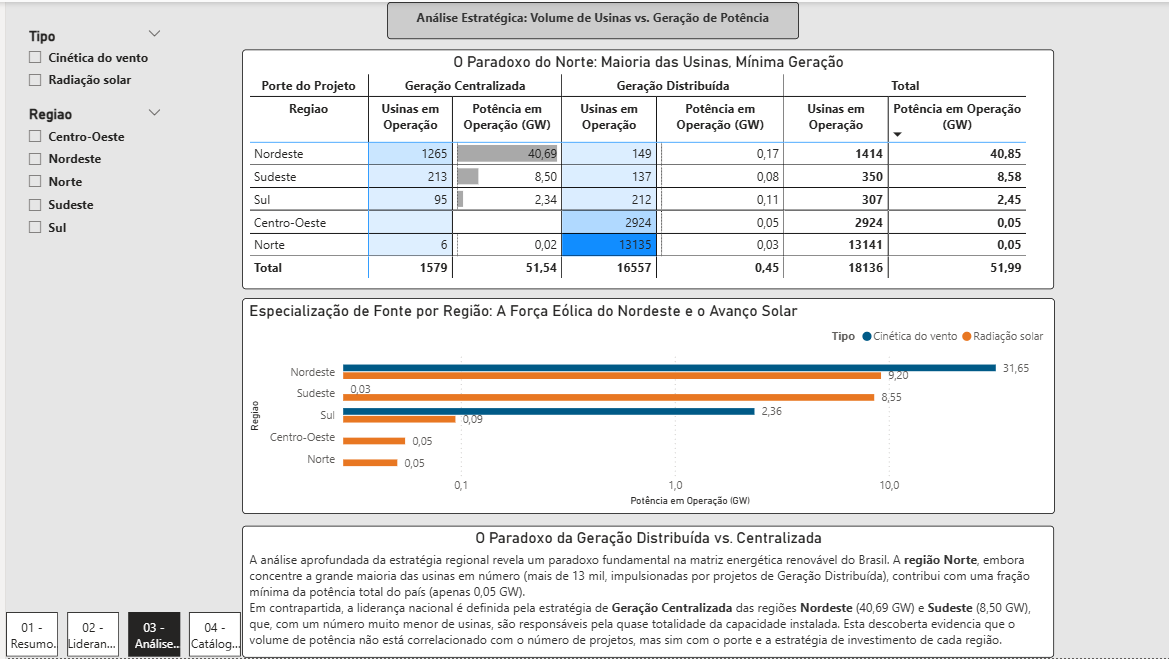

The dashboard page shown, as its layout file describes it:
{"tool":"powerbi","page":{"name":"03 - Análise Estratégica Regional","canvas":[1280,720],"ordinal":2},"visuals":[{"type":"pivotTable","title":"O Paradoxo do Norte: Maioria das Usinas, Mínima Geração","fields":{"Rows":["dLocalizacao.Regiao"],"Columns":["dTipoAtuacao.Porte do Projeto"],"Values":["_Medidas.Usinas em Operação","_Medidas.Potência em Operação (GW)"]},"box":[259.2,52.4,890.8,263.4],"z":0},{"type":"textbox","box":[419.2,0,451.8,41.1],"z":1000},{"type":"clusteredBarChart","title":"Especialização de Fonte por Região: A Força Eólica do Nordeste e o Avanço Solar","fields":{"Category":["dLocalizacao.Regiao"],"Series":["dFonte.Tipo"],"Y":["_Medidas.Potência em Operação (GW)"]},"box":[259.2,325.7,892.2,236.5],"z":2000},{"type":"slicer","fields":{"Values":["dLocalizacao.Regiao"]},"box":[11.9,110.4,170.1,175],"z":3000},{"type":"slicer","fields":{"Values":["dFonte.Tipo"]},"box":[11.9,22.9,170.1,87.5],"z":4000},{"type":"textbox","title":"O Paradoxo da Geração Distribuída vs. Centralizada","box":[259.2,575,890.8,144.5],"z":5000},{"type":"pageNavigator","box":[0,669.9,259.2,49.6],"z":6000}]}

Visuals, with their boxes on the page's 1280x720 design canvas (x1, y1, x2, y2). These are canvas units, not pixel positions in the 1169x659 screenshot, which may show the page scaled, cropped or inside an application window:
"O Paradoxo do Norte: Maioria das Usinas, Mínima Geração" pivotTable: Rect(259, 52, 1150, 316)
textbox: Rect(419, 0, 871, 41)
"Especialização de Fonte por Região: A Força Eólica do Nordeste e o Avanço Solar" clusteredBarChart: Rect(259, 326, 1151, 562)
slicer - dLocalizacao.Regiao: Rect(12, 110, 182, 285)
slicer - dFonte.Tipo: Rect(12, 23, 182, 110)
"O Paradoxo da Geração Distribuída vs. Centralizada" textbox: Rect(259, 575, 1150, 720)
pageNavigator: Rect(0, 670, 259, 720)
